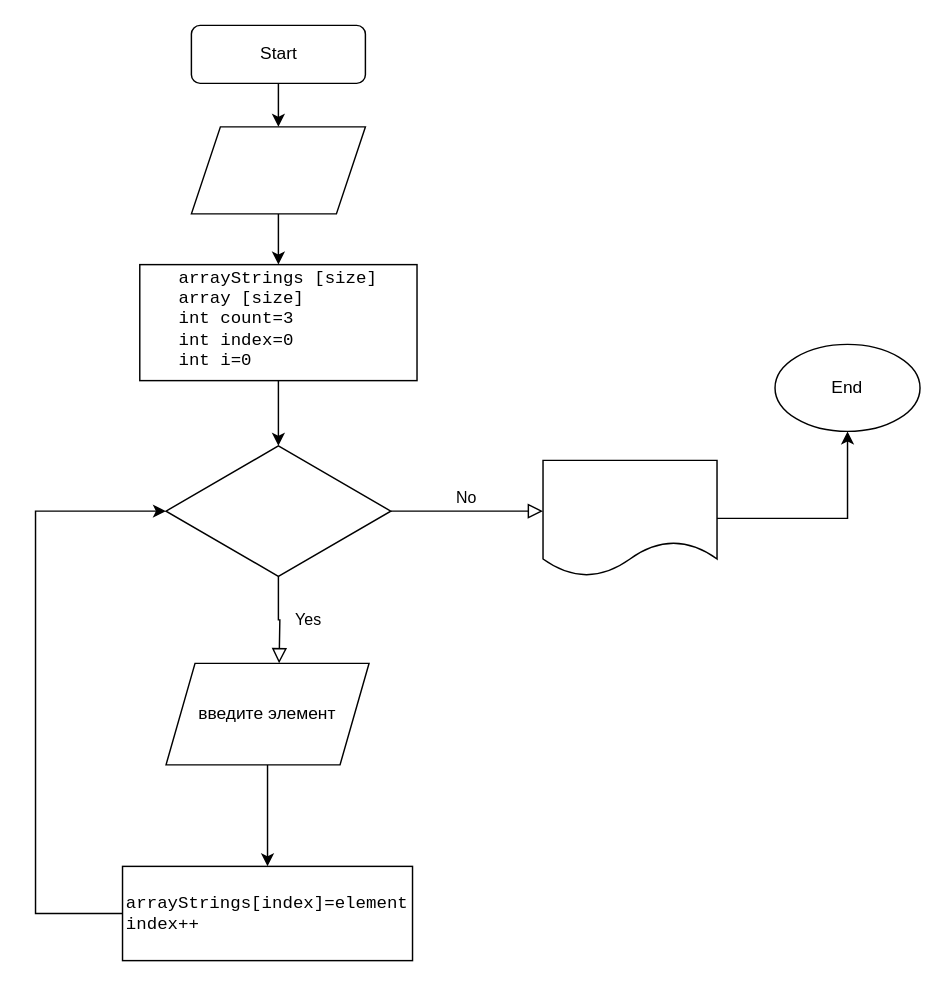
This 945x986 diagram has some shape labels left out. Here are the shapes that lost their labels. From the top down, the centre of each, then its label:
At [277,169]: "Запрос кол-ва элементов".
At [278,510]: "i < size".
At [629,517]: "array".
